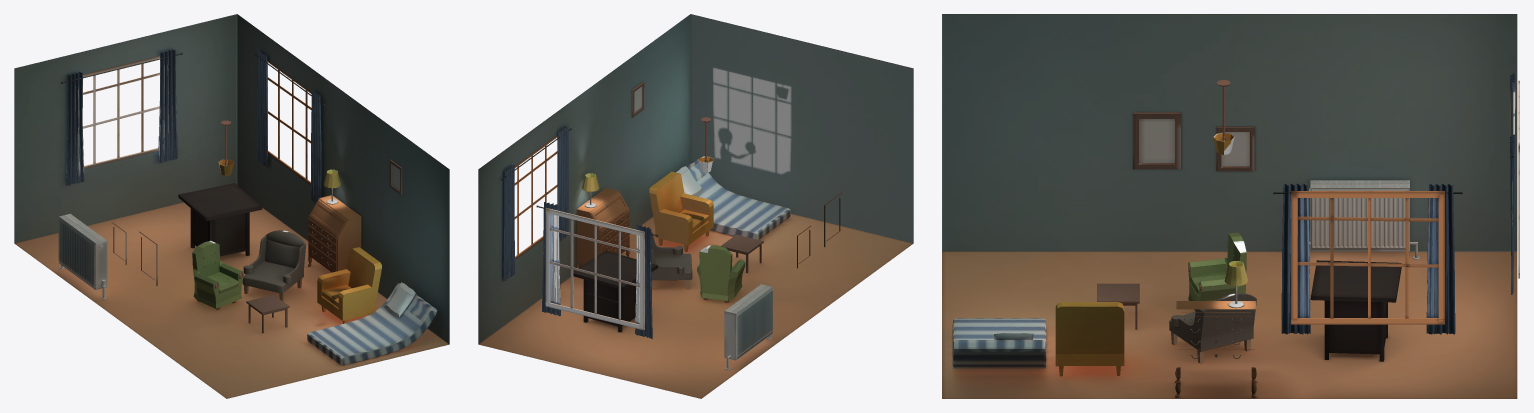
Rendered from room.glb.
3 renders of one model, left to right at view 1: azimuth 30°, elevation 25°; view 2: azimuth 150°, elevation 25°; view 3: azimuth 270°, elevation 25°, orthographic. The views are drawn at different scales.
Visible parts, largest first — view 1: murs, sol, lit, Table haute, armchair, commode, petit fauteuil bas, Radiator, fauteuil vert.001, rideaux_d, rideaux_g, window1 (+6 smaller); view 2: murs, sol, window1, armchair, lit, Table haute, Radiator, commode, fauteuil vert.001, petit fauteuil bas, rideaux_d, rideaux_g (+6 smaller); view 3: murs, sol, window2, Table haute, Radiator, lit, armchair, petit fauteuil bas, rideaux_d.001, rideaux_g.001, tableau 2/2, fauteuil vert.001 (+6 smaller).
Part boxes in pixels (x1=…): murs: x1=14, y1=14, x2=449, y2=344; sol: x1=15, y1=202, x2=448, y2=398; lit: x1=307, y1=283, x2=437, y2=365; Table haute: x1=178, y1=183, x2=262, y2=256; armchair: x1=317, y1=247, x2=381, y2=323; commode: x1=308, y1=195, x2=361, y2=272; petit fauteuil bas: x1=242, y1=230, x2=306, y2=301; Radiator: x1=58, y1=213, x2=107, y2=299; fauteuil vert.001: x1=192, y1=240, x2=243, y2=309; rideaux_d: x1=158, y1=49, x2=177, y2=163; rideaux_g: x1=66, y1=72, x2=84, y2=185; window1: x1=83, y1=56, x2=159, y2=168; murs: x1=478, y1=14, x2=913, y2=344; sol: x1=479, y1=213, x2=912, y2=398; window1: x1=545, y1=208, x2=644, y2=330; armchair: x1=649, y1=171, x2=713, y2=251; lit: x1=686, y1=159, x2=790, y2=239; Table haute: x1=573, y1=250, x2=657, y2=332; Radiator: x1=724, y1=284, x2=772, y2=369; commode: x1=576, y1=188, x2=629, y2=268; fauteuil vert.001: x1=697, y1=245, x2=745, y2=302; petit fauteuil bas: x1=651, y1=231, x2=692, y2=289; rideaux_d: x1=542, y1=202, x2=560, y2=316; rideaux_g: x1=635, y1=224, x2=652, y2=338; murs: x1=942, y1=14, x2=1517, y2=251; sol: x1=942, y1=251, x2=1517, y2=398; window2: x1=1291, y1=191, x2=1444, y2=324; Table haute: x1=1310, y1=260, x2=1401, y2=361; Radiator: x1=1309, y1=180, x2=1420, y2=259; lit: x1=952, y1=318, x2=1046, y2=368; armchair: x1=1055, y1=302, x2=1124, y2=376; petit fauteuil bas: x1=1169, y1=293, x2=1256, y2=363; rideaux_d.001: x1=1281, y1=183, x2=1310, y2=334; rideaux_g.001: x1=1426, y1=183, x2=1455, y2=334; tableau 2/2: x1=1133, y1=112, x2=1181, y2=169; fauteuil vert.001: x1=1188, y1=232, x2=1246, y2=311.
Size of the model in its own units: 4.36 by 3.25 by 7.18.
27 materials, 24 textured.
